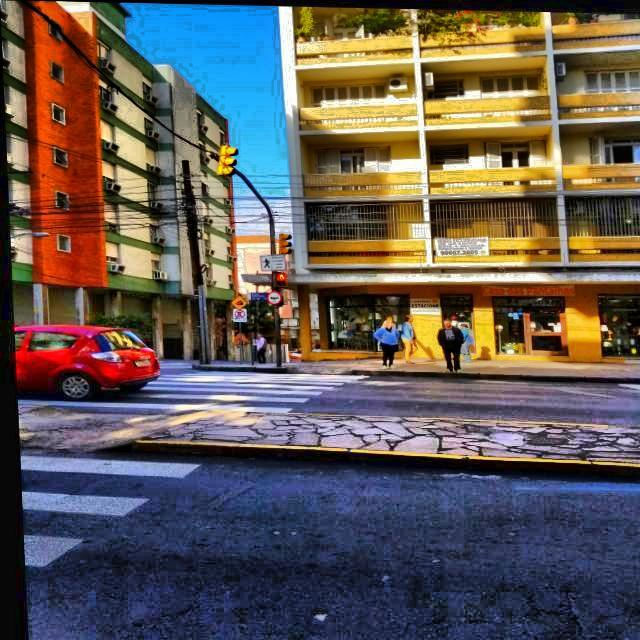faixa de pedestre: (14, 362, 359, 572)
